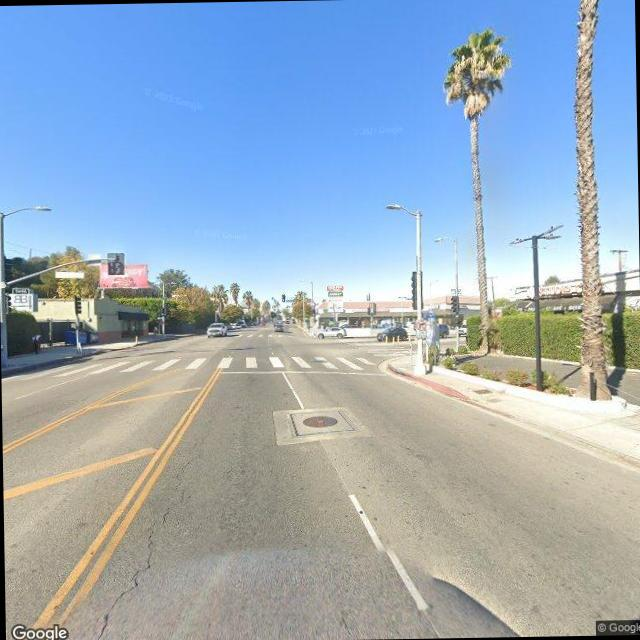pothole: (91, 417, 212, 640)
